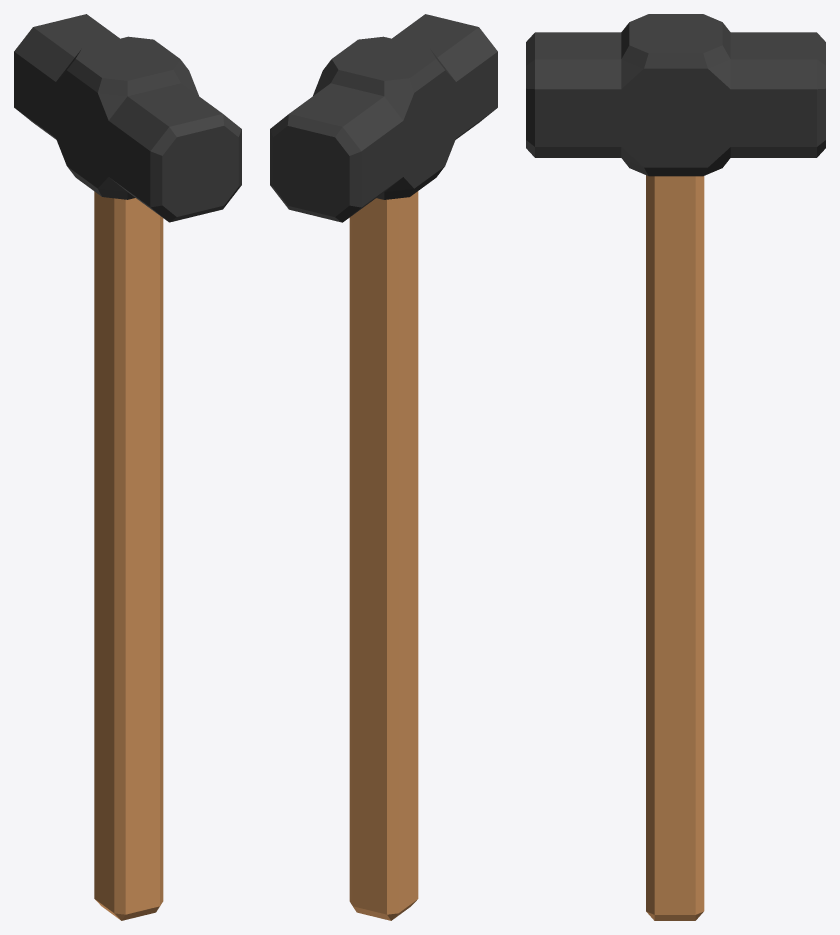
The model's file is Sledgehammer.fbx.
3 renders of one model, left to right at view 1: azimuth 30°, elevation 25°; view 2: azimuth 150°, elevation 25°; view 3: azimuth 270°, elevation 25°, orthographic. The views are drawn at different scales.
Parts seen in each view (by area): view 1: Sledgehammer; view 2: Sledgehammer; view 3: Sledgehammer.
Part boxes in pixels (x1,y1,x2,y2): Sledgehammer: [14, 14, 241, 920]; Sledgehammer: [270, 14, 497, 920]; Sledgehammer: [526, 14, 825, 920].
Size of the model in its own units: 16.57 by 147 by 45.54.
